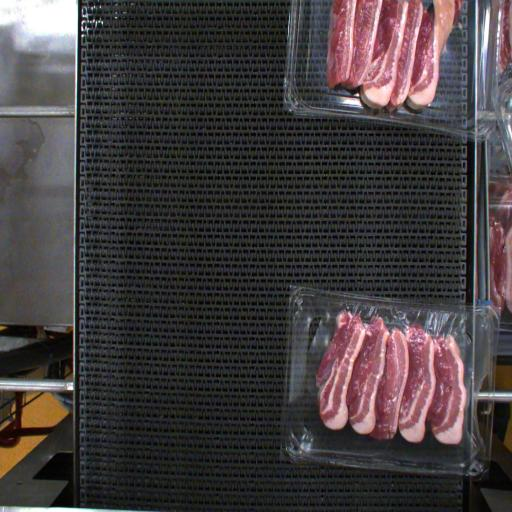unsealed: (296, 288, 488, 458)
